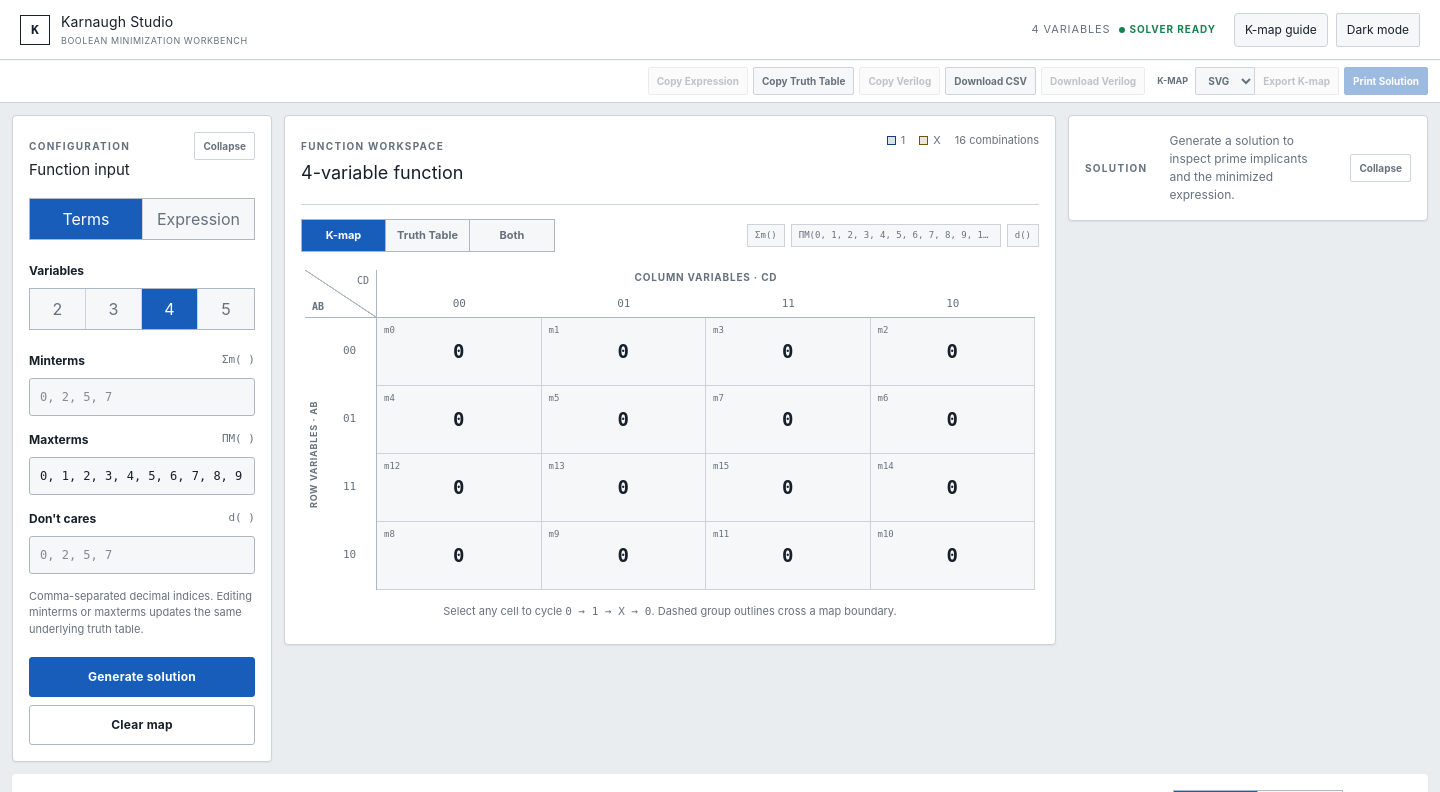
Test case: HomePage K-map workbench › navigates educational steps and restores the complete solved map
The image size is (1440, 792).
Type "0, 2, 5, 7, 8, 10, 13, 15" into the field labelled "Minterms Σm( )" at x=142, y=396, box [29, 378, 255, 416]
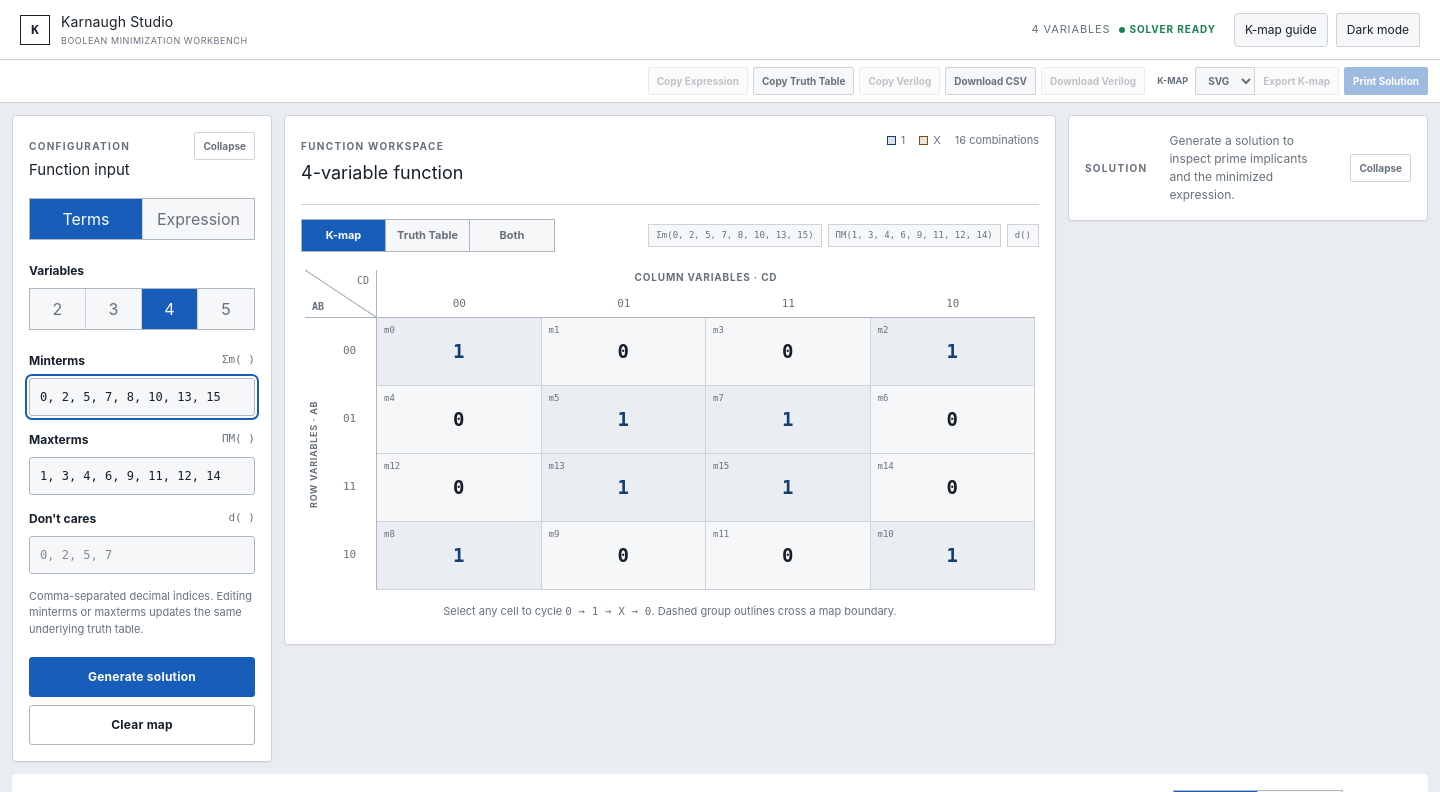
Click the button "Generate solution" at x=142, y=677, box [29, 657, 255, 697]
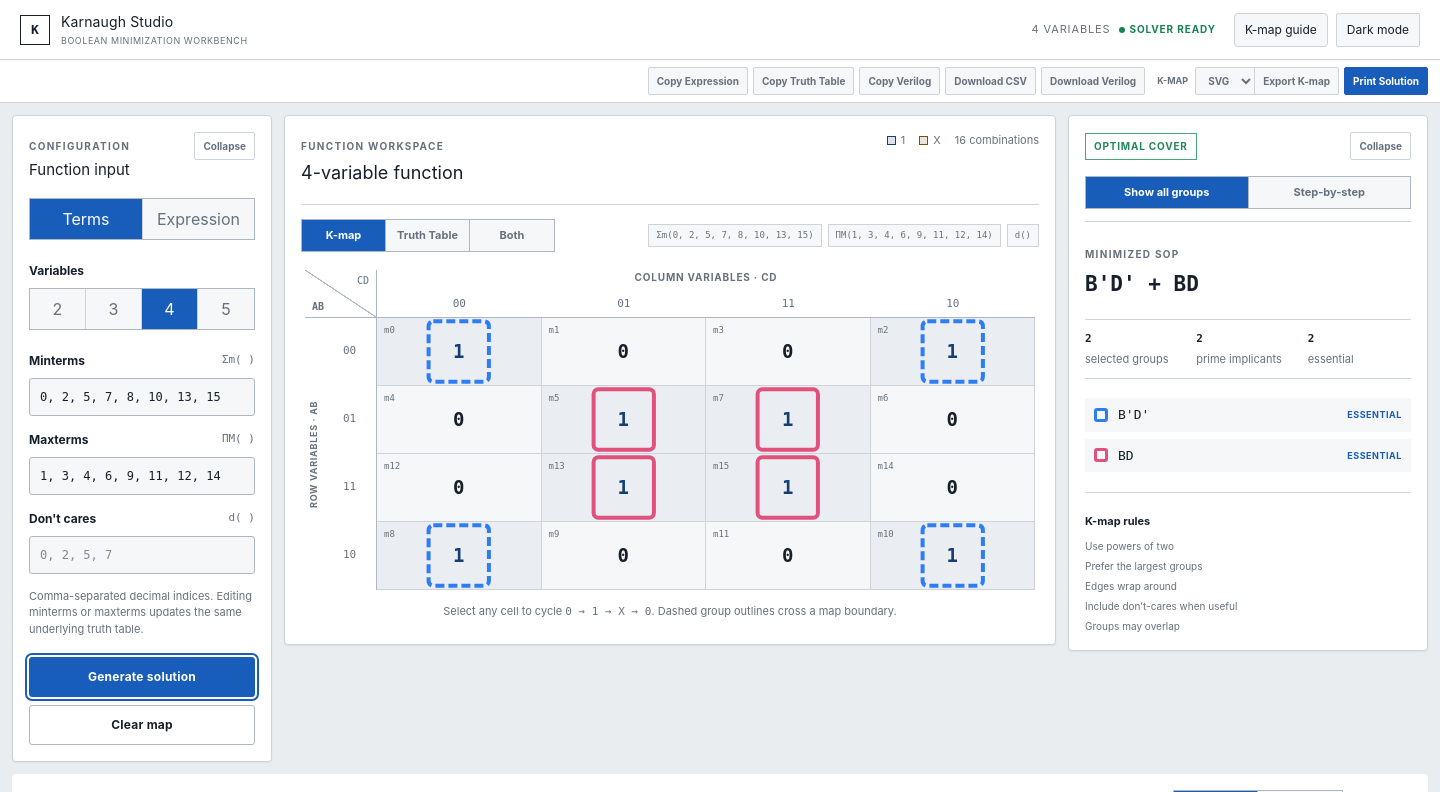
Click the button "Step-by-step" at x=1329, y=192, box [1248, 177, 1410, 208]
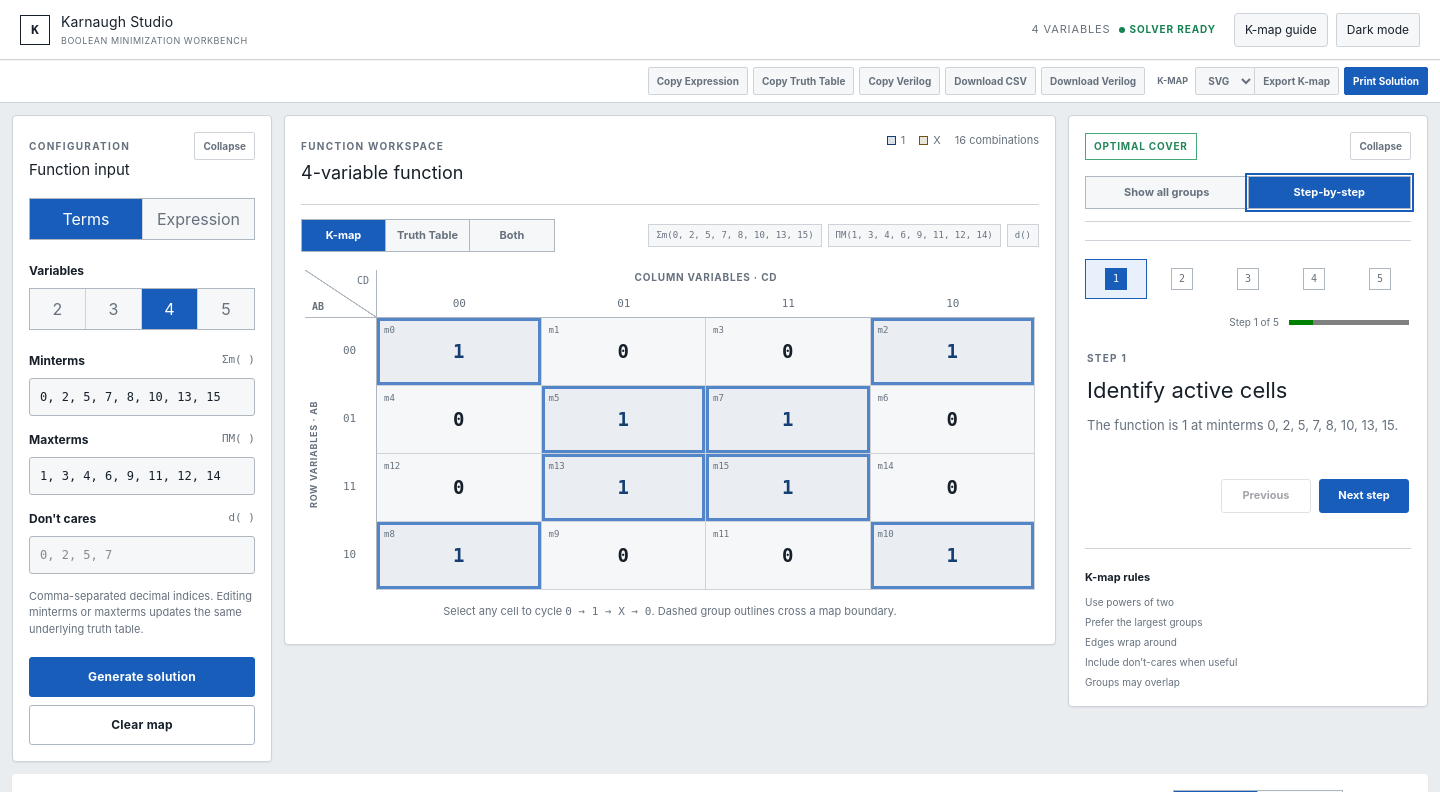
Now the heading "Identify active cells" is shown, box [1087, 376, 1288, 402]
Now the progress indicator named "Solution progress" holds "1", box [1289, 320, 1409, 324]
Click the button "Next step" at x=1364, y=496, box [1319, 478, 1409, 512]
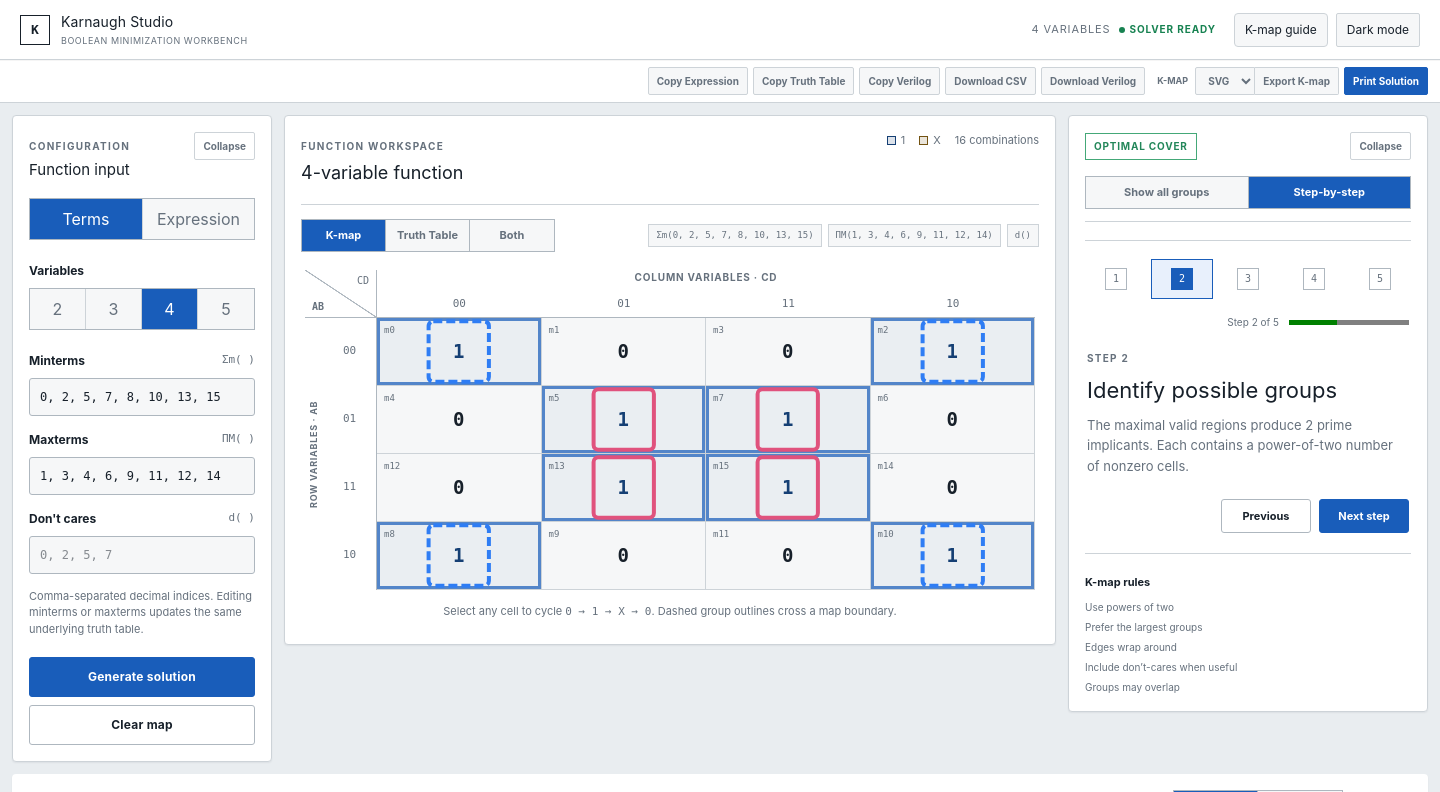
Now the heading "Identify possible groups" is shown, box [1087, 376, 1337, 402]
Click the button named "Final expression" at x=1380, y=278, box [1349, 258, 1411, 298]
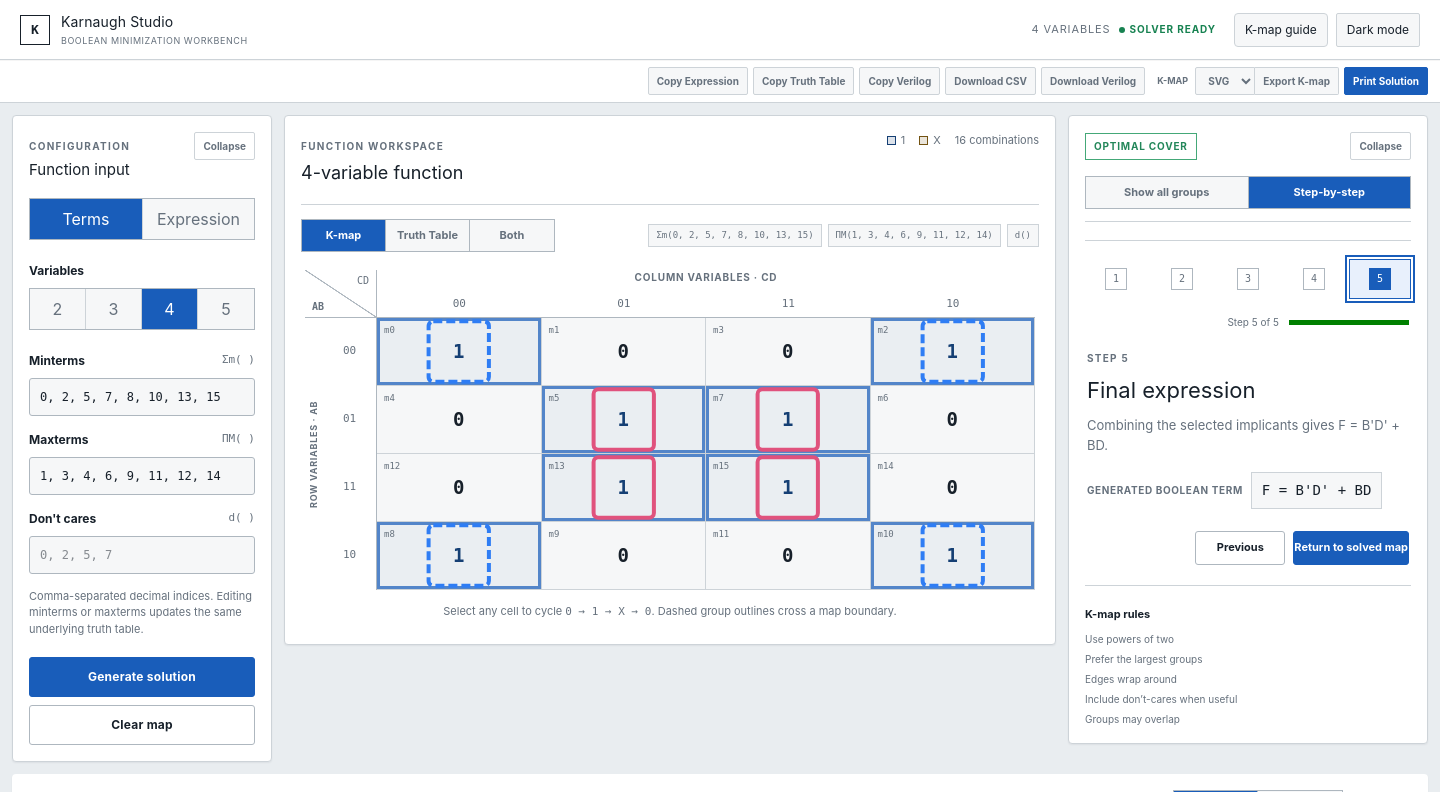
Now the text "F = B'D' + BD" is shown, box [1251, 472, 1382, 508]
Click the button "Return to solved map" at x=1351, y=548, box [1293, 530, 1409, 564]
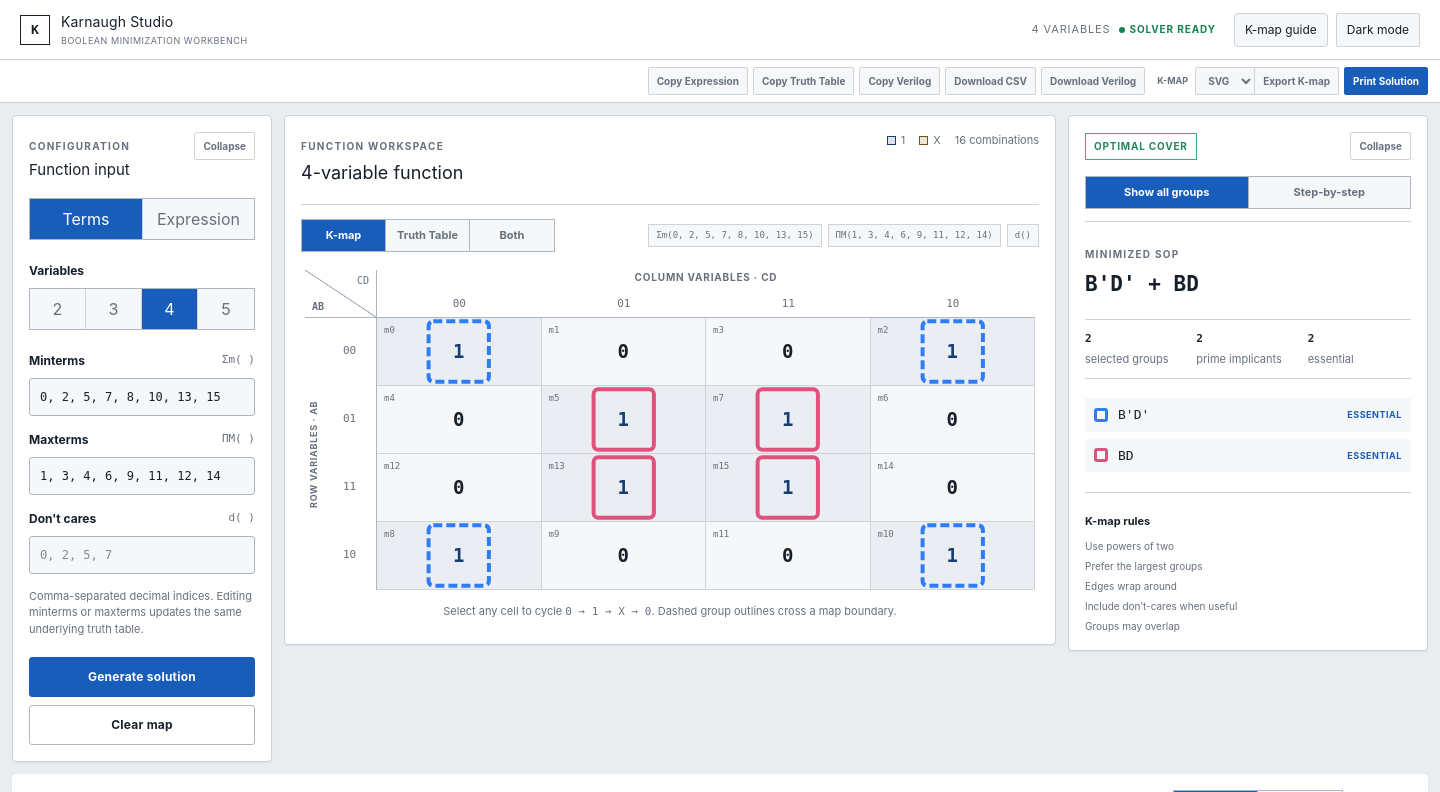
Now the element with test id "all-groups-view" is shown, box [1085, 240, 1411, 472]
